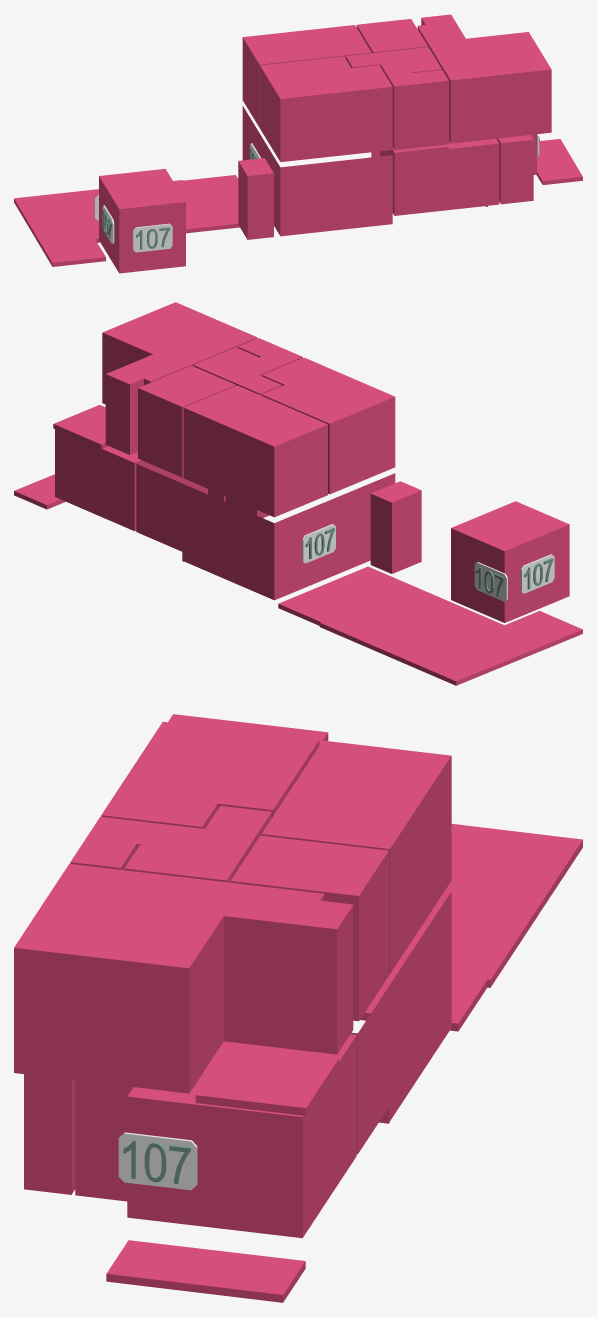
The picture shows the model from 3 angles, top to bottom: view 1: azimuth 30°, elevation 25°; view 2: azimuth 150°, elevation 25°; view 3: azimuth 270°, elevation 25°; orthographic projection. The views are drawn at different scales.
Visible parts, largest first — view 1: g_6, g_10, g_1, g_14, g_2, g_5, g_7, g_11, g_4, g_3, g_9, g_8 (+2 smaller); view 2: g_1, g_14, g_7, g_10, g_5, g_6, g_0, g_9, g_4, g_8, g_12, g_13 (+4 smaller); view 3: g_10, g_0, g_7, g_14, g_6, g_1, g_9, g_13, g_12, g_8, g_3, g_2 (+3 smaller).
Part boxes in pixels (box(x1,y1,x2,y2)): g_6: box(260, 56, 392, 161); g_10: box(417, 14, 551, 143); g_1: box(242, 106, 392, 236); g_14: box(14, 175, 239, 266); g_2: box(380, 138, 499, 215); g_5: box(99, 168, 185, 273); g_7: box(242, 25, 371, 127); g_11: box(387, 70, 448, 149); g_4: box(238, 158, 273, 239); g_3: box(496, 135, 533, 204); g_9: box(356, 19, 427, 53); g_8: box(346, 47, 441, 76); g_1: box(136, 464, 395, 600); g_14: box(278, 566, 582, 685); g_7: box(183, 385, 327, 517); g_10: box(102, 302, 257, 454); g_5: box(451, 501, 569, 622); g_6: box(261, 357, 395, 494); g_0: box(55, 429, 207, 531); g_9: box(138, 366, 235, 477); g_4: box(370, 481, 421, 573); g_8: box(193, 347, 281, 395); g_12: box(53, 405, 108, 448); g_13: box(14, 474, 65, 509); g_10: box(14, 863, 353, 1093); g_0: box(127, 1034, 356, 1238); g_7: box(261, 740, 451, 974); g_14: box(360, 824, 582, 1031); g_6: box(101, 721, 319, 828); g_1: box(351, 891, 451, 1154); g_9: box(230, 835, 388, 1021); g_13: box(106, 1240, 305, 1302); g_12: box(195, 1045, 338, 1115); g_8: box(124, 805, 271, 882); g_3: box(24, 1074, 75, 1194); g_2: box(75, 1080, 133, 1201).
Size of the model in its own units: 20.08 by 5.35 by 9.82.
